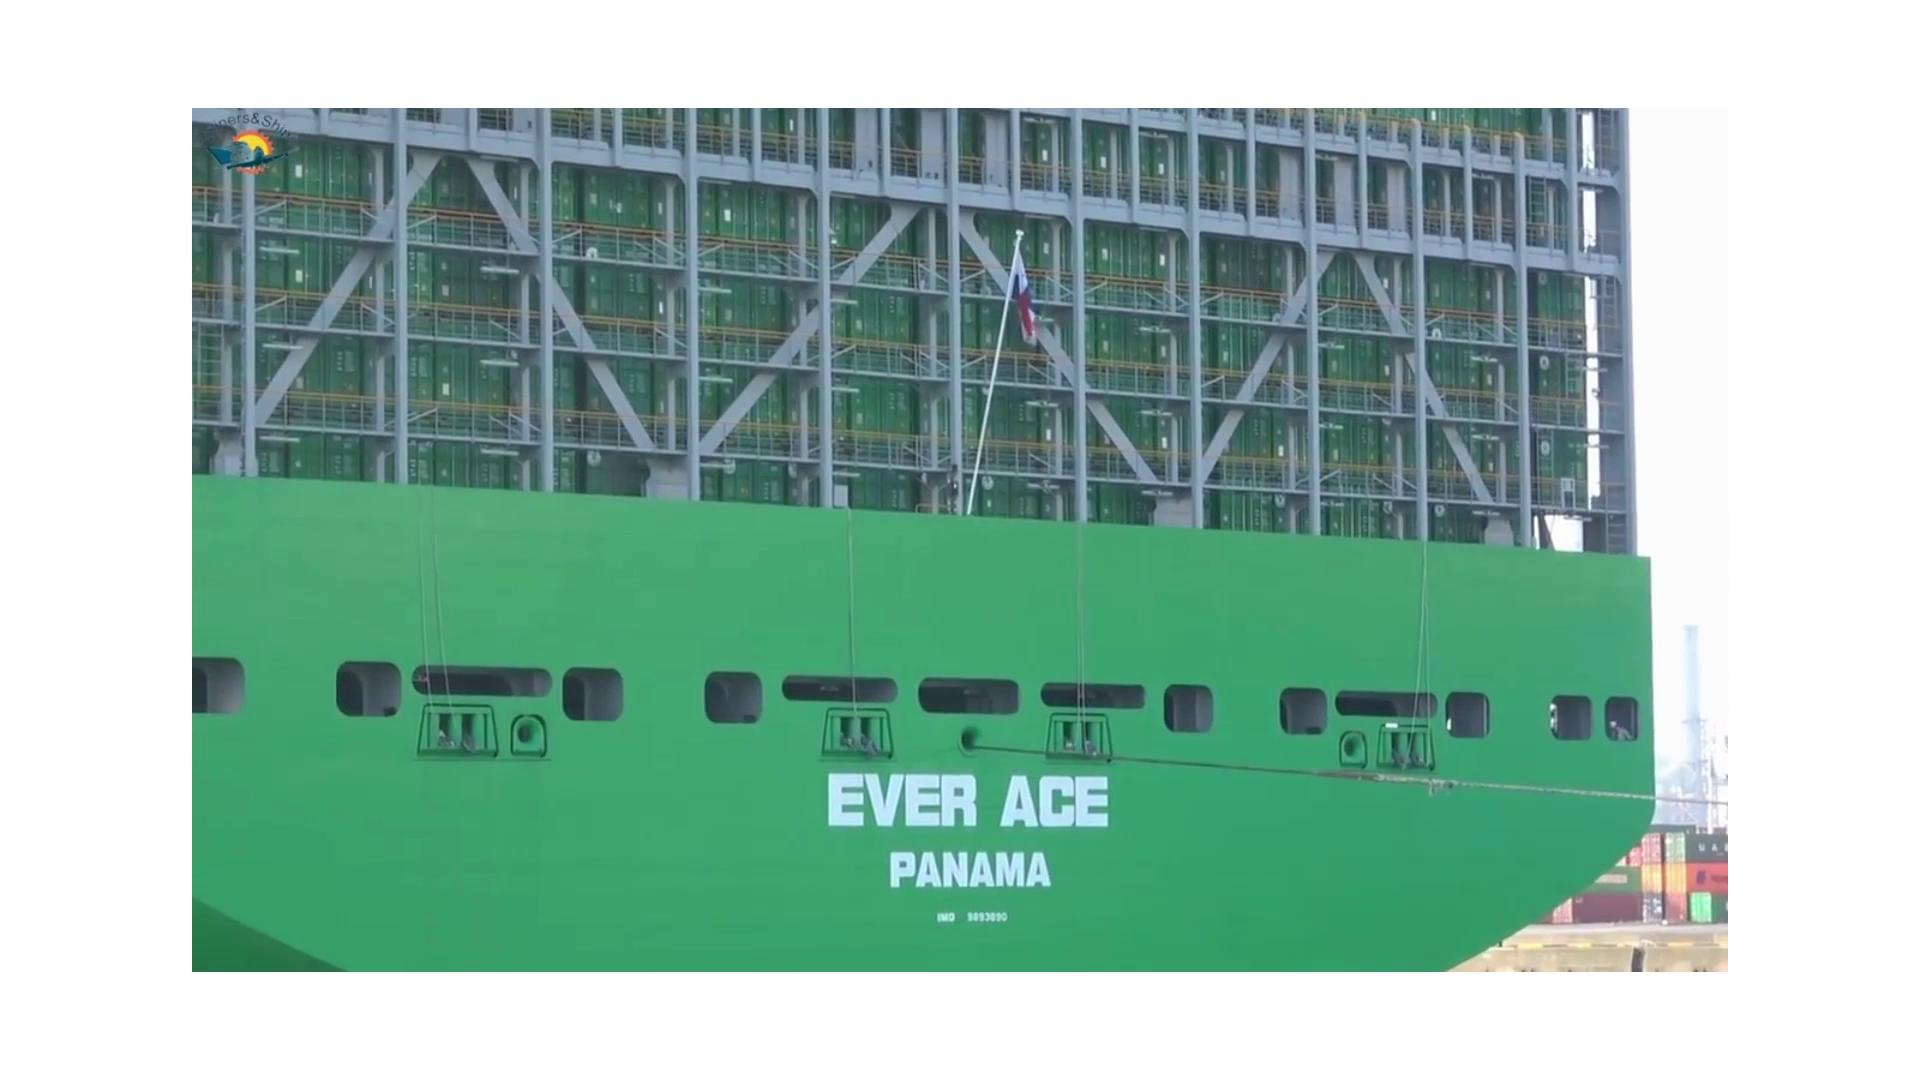OCR: (791, 748, 1175, 915)
